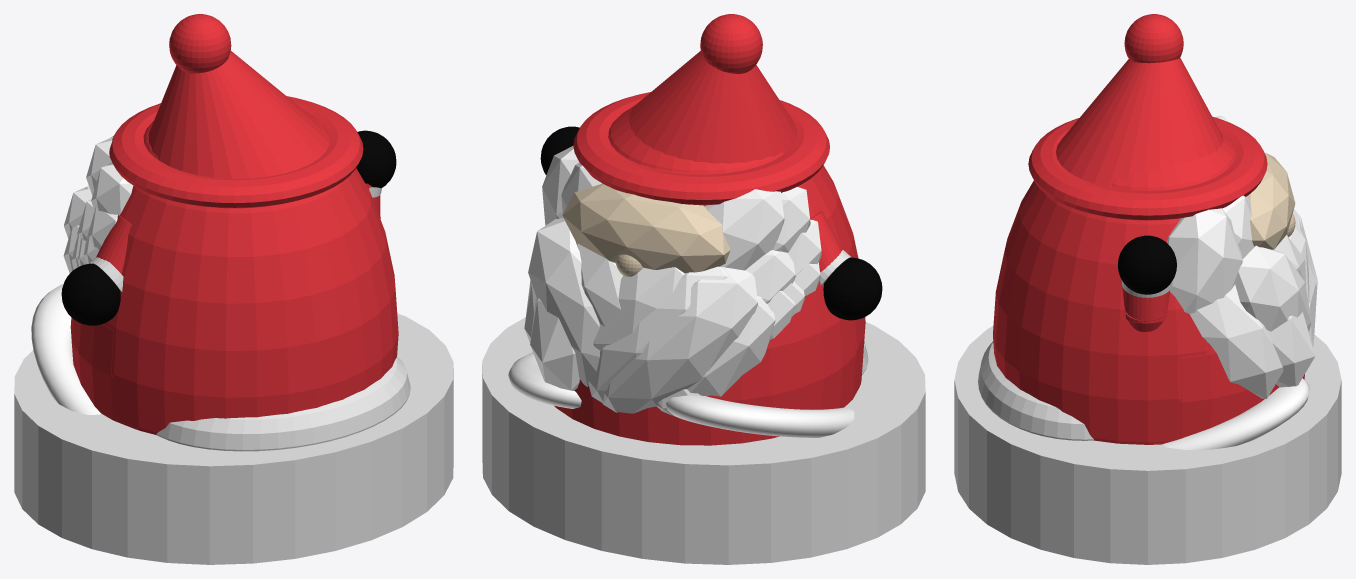
The model's file is santa.glb.
3 renders of one model, left to right at view 1: azimuth 30°, elevation 25°; view 2: azimuth 150°, elevation 25°; view 3: azimuth 270°, elevation 25°, orthographic. The views are drawn at different scales.
Parts seen in each view (by area): view 1: 球, 円柱, 円錐, トーラス.004, トーラス.003, トーラス.002, 球.002, 球.005, 球.003, 球.004, ICO球.010, 円柱.002 (+3 smaller); view 2: 円柱, 球.002, 円錐, トーラス.004, ICO球.003, ICO球, ICO球.001, 球, トーラス.002, ICO球.008, ICO球.002, ICO球.005 (+15 smaller); view 3: 円柱, 球, 円錐, トーラス.004, ICO球.007, ICO球.016, 球.002, ICO球.001, トーラス.003, トーラス.001, ICO球, 球.004 (+7 smaller).
Boxes of the visible parts, left/top/right/bottom form: 球: left=104, top=110, right=398, bottom=434; 円柱: left=14, top=313, right=453, bottom=564; 円錐: left=148, top=51, right=329, bottom=178; トーラス.004: left=109, top=96, right=363, bottom=208; トーラス.003: left=156, top=356, right=410, bottom=451; トーラス.002: left=31, top=284, right=100, bottom=414; 球.002: left=70, top=264, right=136, bottom=429; 球.005: left=169, top=14, right=231, bottom=73; 球.003: left=61, top=263, right=120, bottom=325; 球.004: left=356, top=130, right=396, bottom=188; ICO球.010: left=91, top=164, right=133, bottom=214; 円柱.002: left=96, top=215, right=131, bottom=274; 円柱: left=482, top=317, right=925, bottom=564; 球.002: left=554, top=164, right=859, bottom=445; 円錐: left=629, top=51, right=797, bottom=163; トーラス.004: left=573, top=92, right=829, bottom=205; ICO球.003: left=602, top=267, right=757, bottom=413; ICO球: left=562, top=183, right=730, bottom=273; ICO球.001: left=528, top=218, right=600, bottom=386; 球: left=608, top=105, right=865, bottom=394; トーラス.002: left=666, top=395, right=854, bottom=437; ICO球.008: left=705, top=189, right=784, bottom=270; ICO球.002: left=588, top=266, right=728, bottom=402; ICO球.005: left=593, top=267, right=684, bottom=350; 円柱: left=954, top=326, right=1341, bottom=564; 球: left=993, top=131, right=1235, bottom=444; 円錐: left=1056, top=58, right=1223, bottom=187; トーラス.004: left=1028, top=116, right=1267, bottom=220; ICO球.007: left=1166, top=208, right=1242, bottom=313; ICO球.016: left=1189, top=284, right=1283, bottom=398; 球.002: left=1151, top=139, right=1304, bottom=444; ICO球.001: left=1235, top=245, right=1311, bottom=331; トーラス.003: left=978, top=341, right=1093, bottom=440; トーラス.001: left=1162, top=378, right=1310, bottom=449; ICO球: left=1247, top=152, right=1295, bottom=249; 球.004: left=1117, top=235, right=1176, bottom=294.
Bounding box in the file's own units: 1.61 × 1.83 × 1.45.
